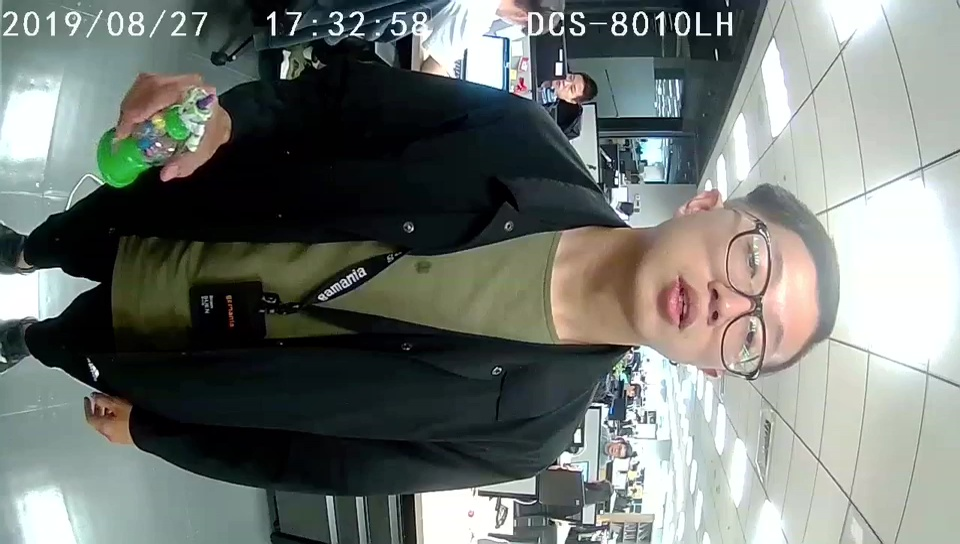buzz: (97, 86, 215, 191)
